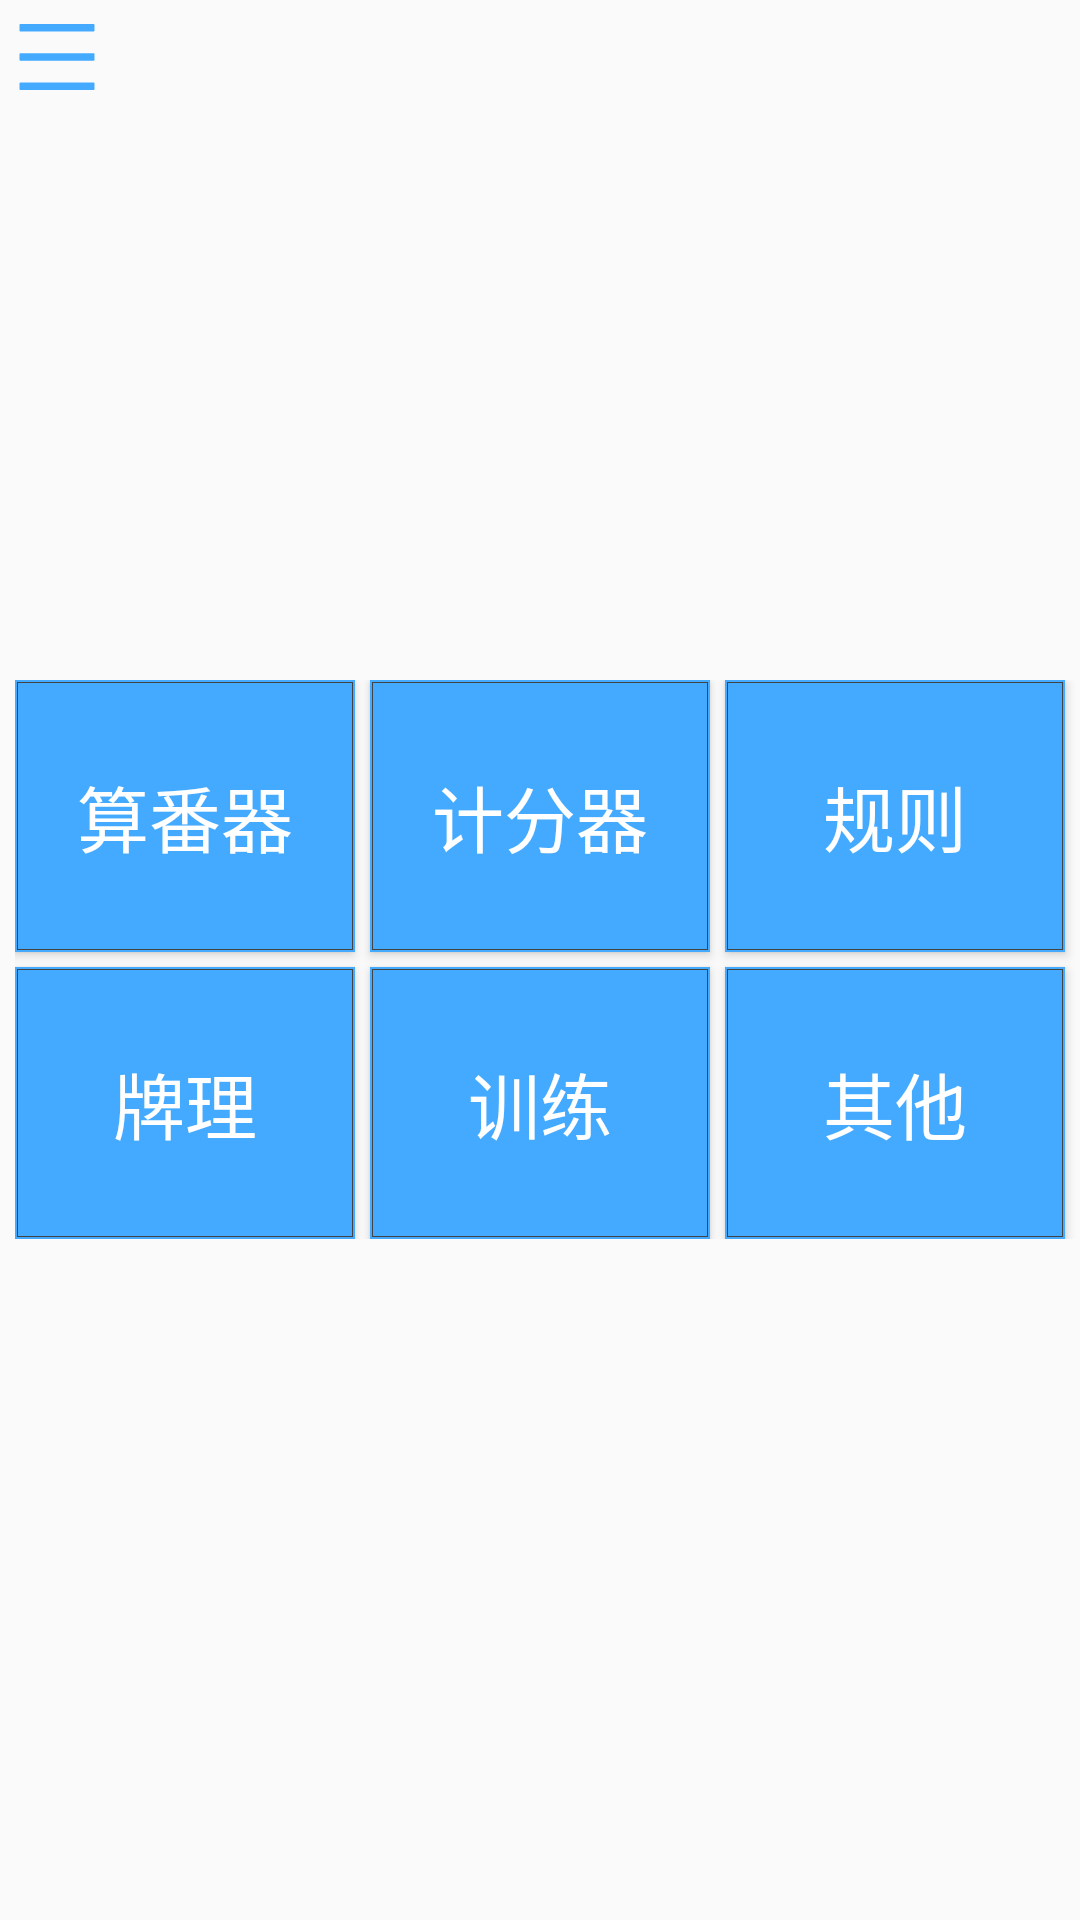

Point at icon controls on the screen. Image size 1080 × 1920, points as [x,y].
menu: [57,57]
